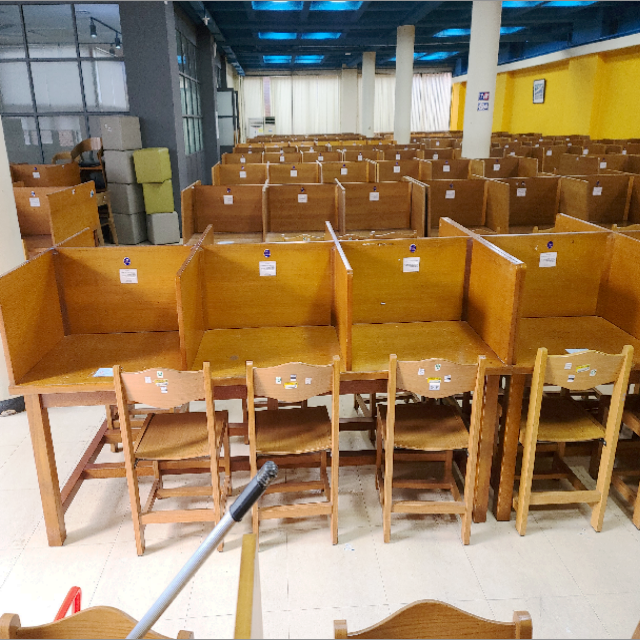empty: (5, 246, 184, 465), (191, 244, 354, 452), (361, 249, 509, 454)
